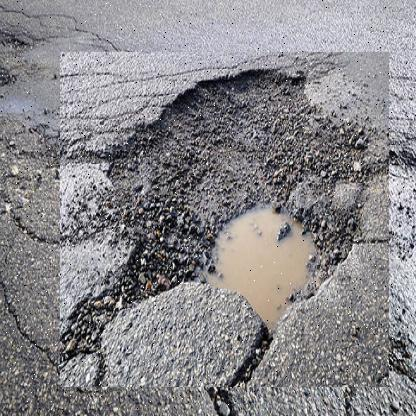pothole: (60, 52, 390, 388)
